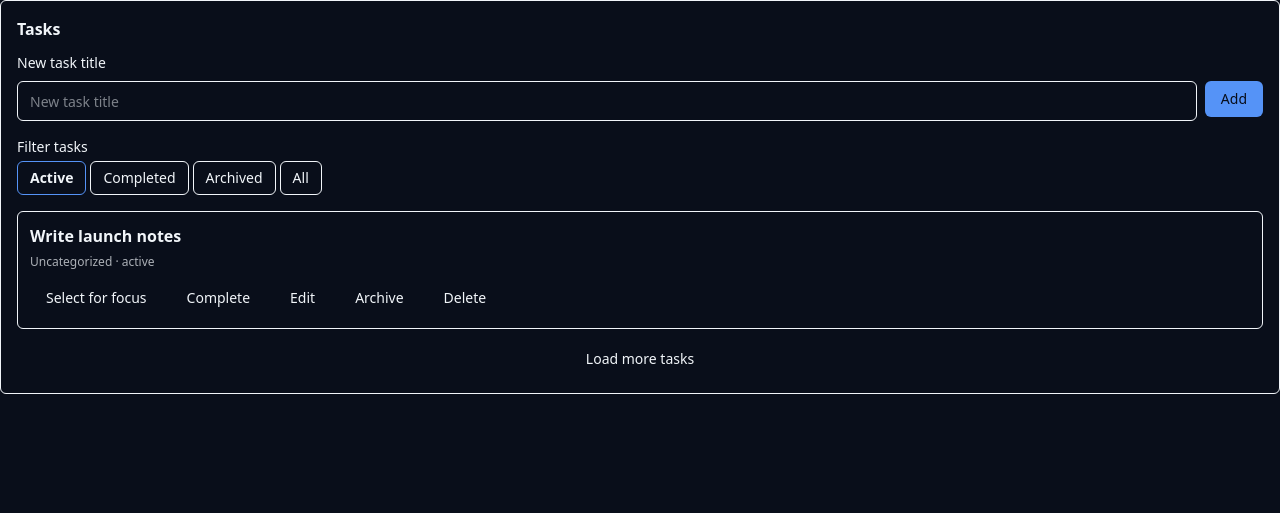
Test case: <TaskPanel /> pagination (spec §11.5) › appends the next page on demand and announces it
Expected: the text "Write launch notes" is shown, [30,225,181,247]
Expected: the text "Review pull requests" is not shown
Click the button "Load more tasks" at point(640, 359), box [17,341,1263,377]
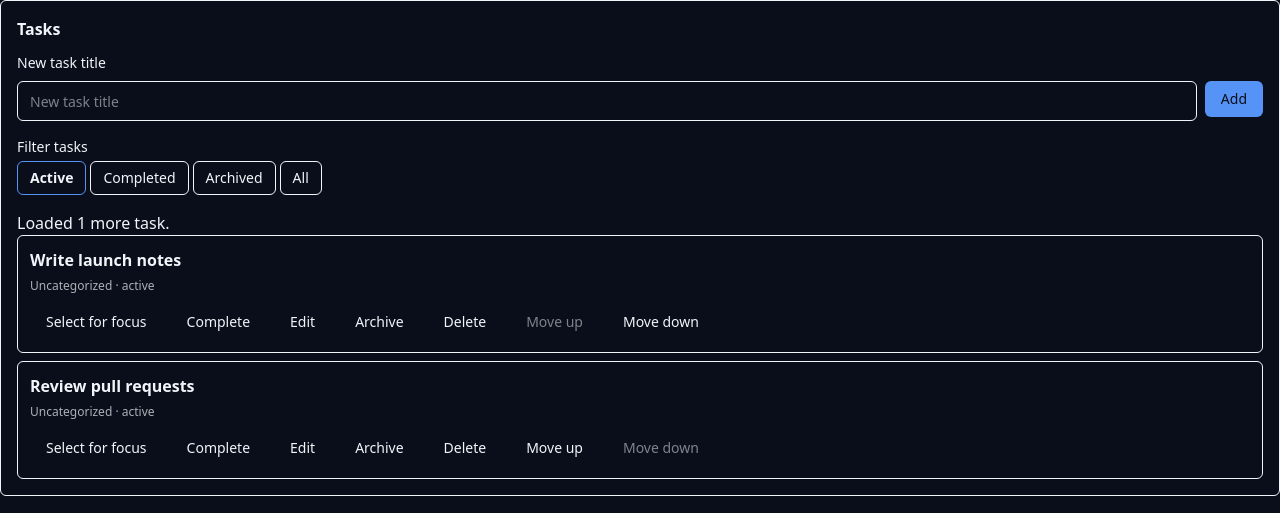
Now the text "Review pull requests" is shown, box [30,375,195,397]
Now the message shows "Loaded 1 more task", box [17,212,170,234]
Now the button "Load more tasks" is gone
